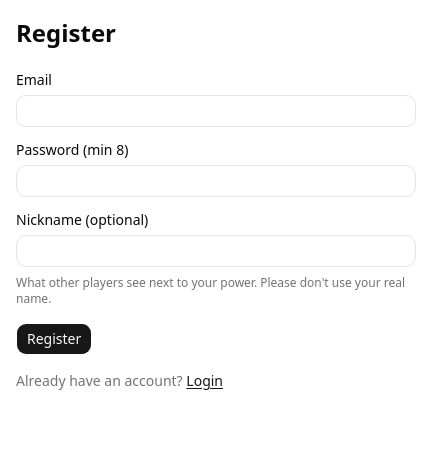
Scenario: Register › shows error when password is less than 8 characters
Expected: the heading "Register" is shown, [16, 16, 116, 49]
In the field with id "email": (216, 111) [16, 95, 416, 127], type "a@b.com"
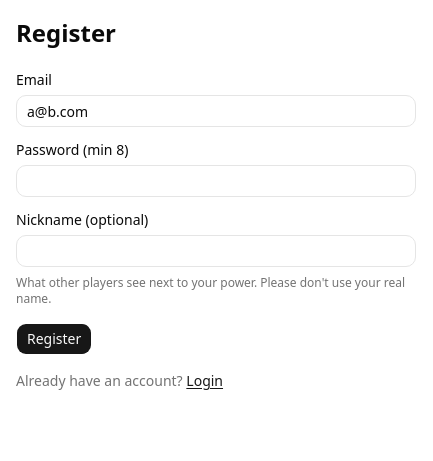
In the password field labelled "Password (min 8)": (216, 181) [16, 165, 416, 197], type "short"
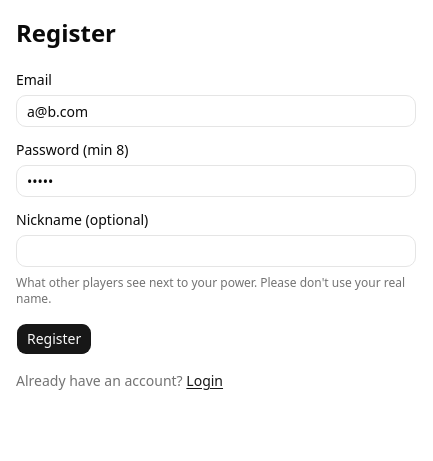
Click the button "Register": (54, 339) [16, 323, 92, 355]
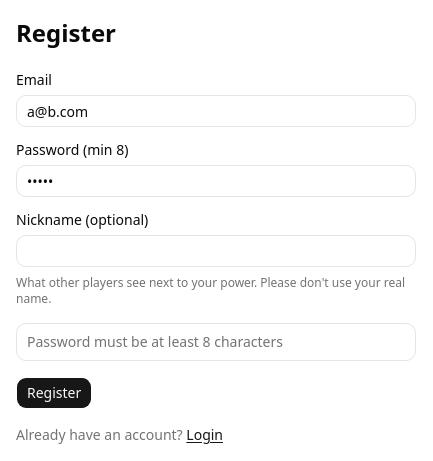
Expected: the message shows "at least 8", [27, 332, 283, 351]
